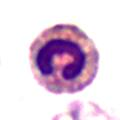eosi: (25, 22, 100, 91)
